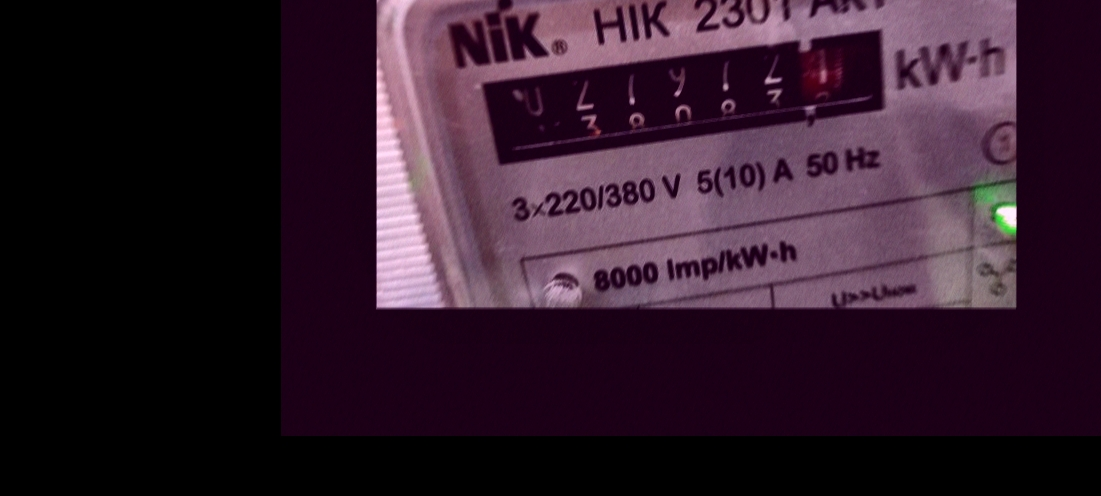0: (520, 80, 548, 116)
1: (813, 43, 835, 86)
2: (569, 71, 598, 110), (759, 47, 787, 84)
7: (712, 52, 738, 93), (619, 68, 642, 105)
9: (666, 61, 692, 96)
screen: (466, 19, 918, 173)
